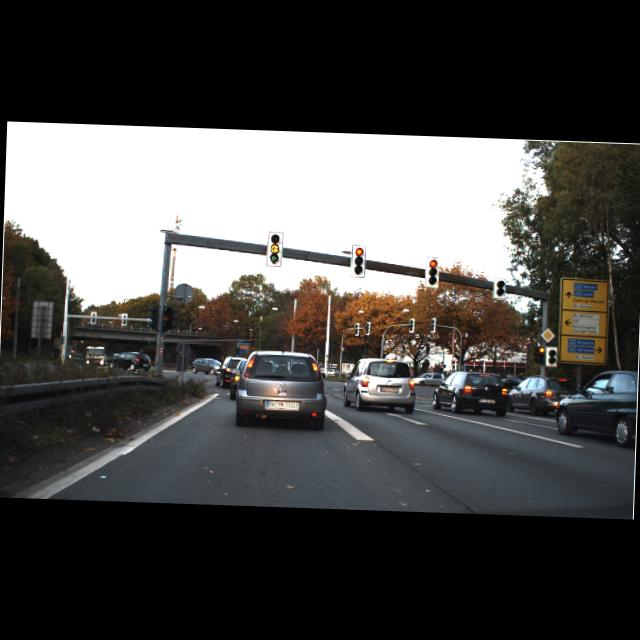other: (540, 326, 556, 344)
